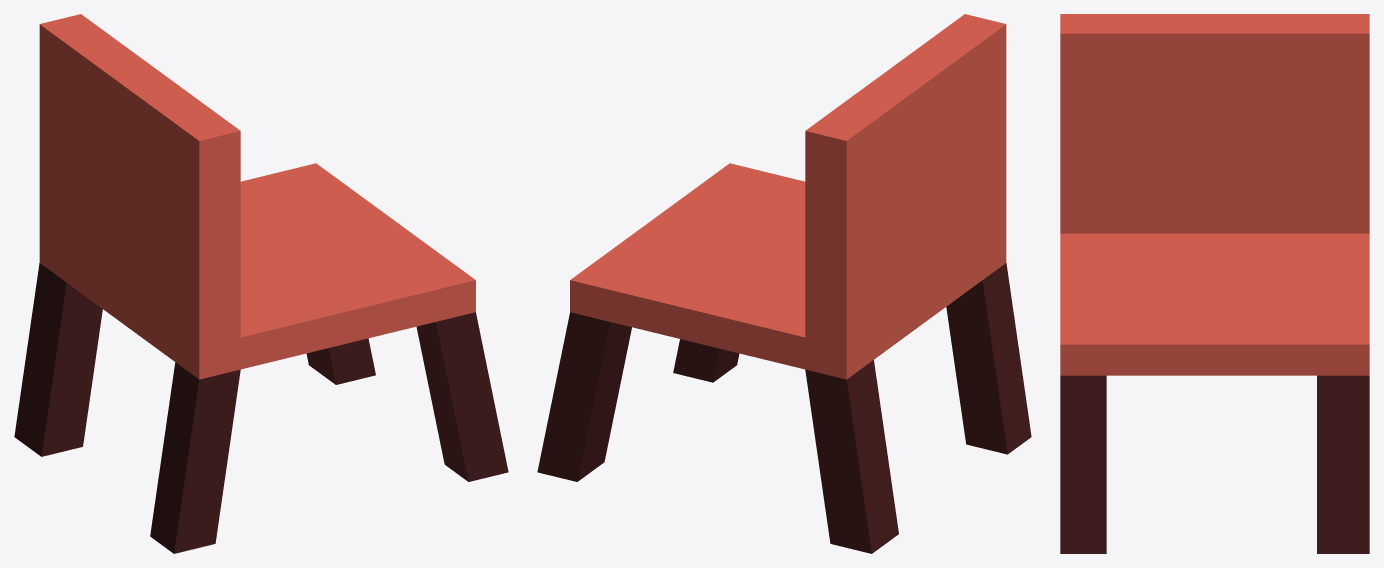
Rendered from Chair.fbx.
3 renders of one model, left to right at view 1: azimuth 30°, elevation 25°; view 2: azimuth 150°, elevation 25°; view 3: azimuth 270°, elevation 25°, orthographic. The views are drawn at different scales.
Parts seen in each view (by area): view 1: Chair; view 2: Chair; view 3: Chair.
Part boxes in pixels (x1,y1,x2,y2): Chair: (14,14,508,553); Chair: (537,14,1031,553); Chair: (1060,14,1369,553).
Size of the model in its own units: 197 by 229 by 163.
